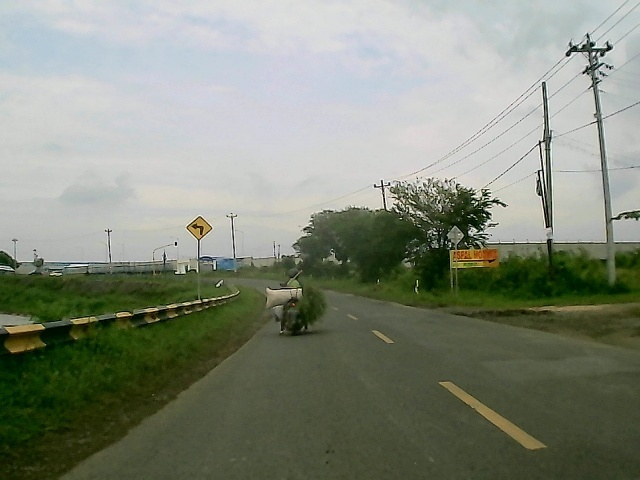Tikungan tajam ke kiri: (181, 213, 214, 241)
